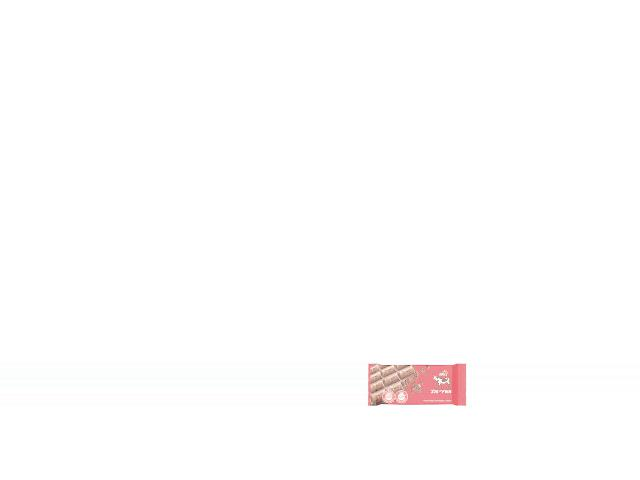chocolate: (368, 363, 468, 406)
